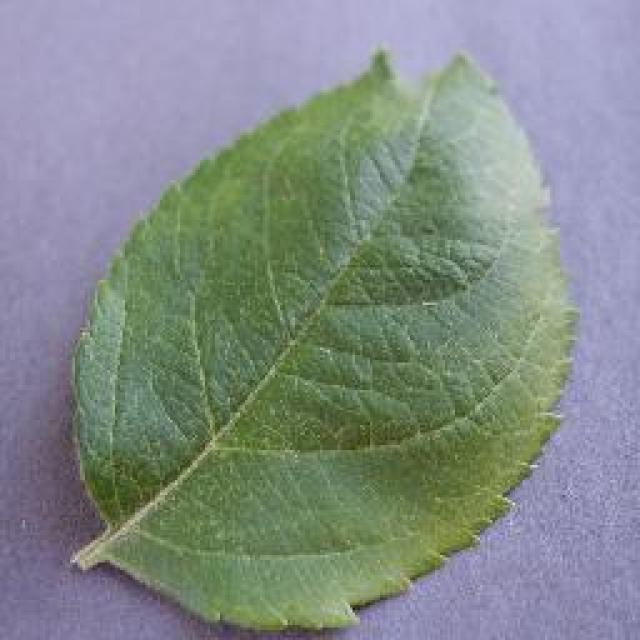apple healthy: (65, 42, 580, 632)
